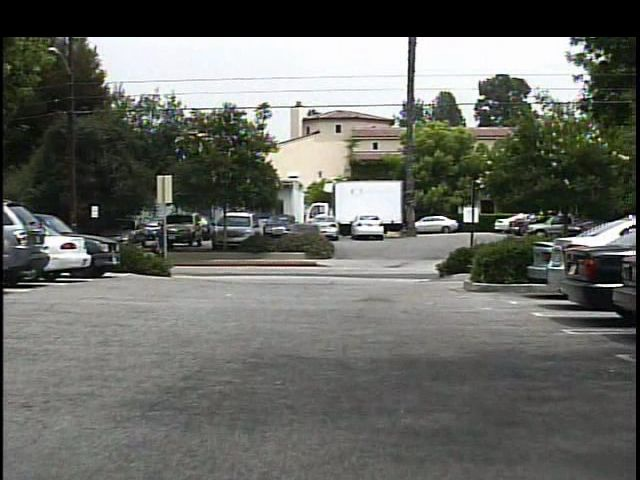person: (152, 219, 176, 274)
